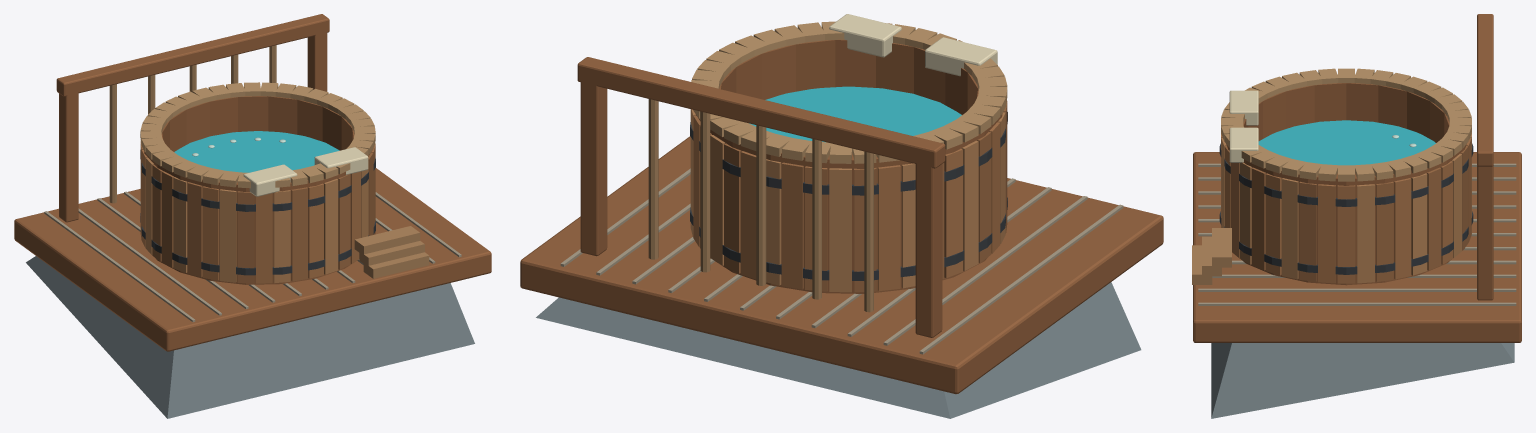
File: hot_tub.glb
3 views of the same model, side by side, from view 1: azimuth 30°, elevation 25°; view 2: azimuth 150°, elevation 25°; view 3: azimuth 270°, elevation 25° (orthographic). The views are drawn at different scales.
Parts seen in each view (by area): view 1: HotTub; view 2: HotTub; view 3: HotTub.
Boxes of the visible parts, x1,y1,x2,y2 form: HotTub: [14, 14, 491, 418]; HotTub: [520, 14, 1163, 418]; HotTub: [1192, 14, 1521, 418].
Bounding box in the file's own units: 1 × 0.7023 × 0.8205.
